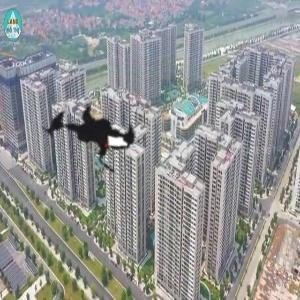drone: (19, 70, 161, 212)
